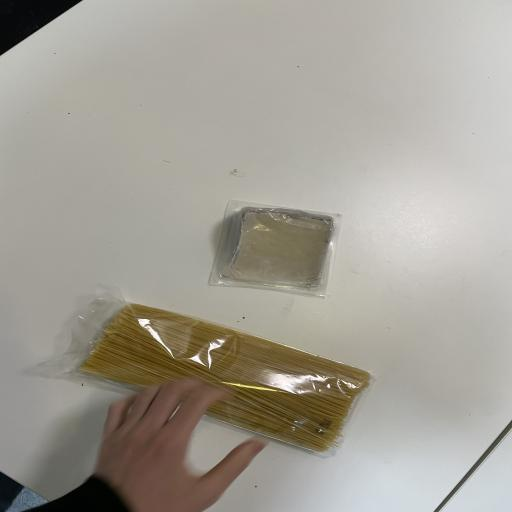cured_goat_cheese: (206, 192, 347, 298)
spaghetti: (68, 300, 375, 470)
